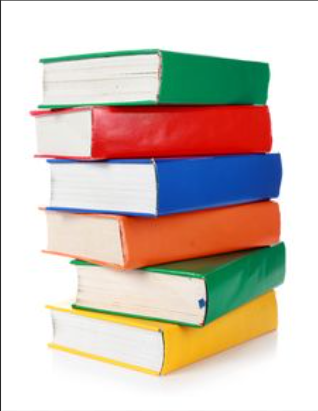book: (47, 292, 273, 377), (73, 244, 286, 332), (50, 208, 279, 269), (50, 158, 284, 216), (32, 51, 266, 108), (33, 104, 275, 155)
